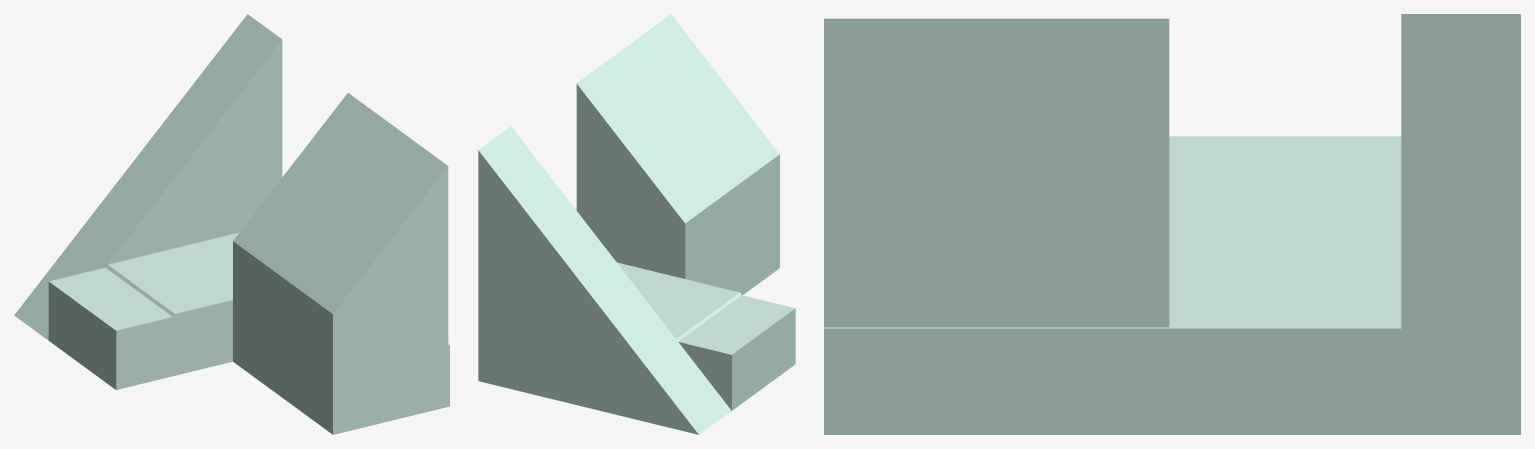
3 views of the same model, side by side, from view 1: azimuth 30°, elevation 25°; view 2: azimuth 150°, elevation 25°; view 3: azimuth 270°, elevation 25° (orthographic). The views are drawn at different scales.
Visible parts, largest first — view 1: Renderer Node; view 2: Renderer Node; view 3: Renderer Node.
Part boxes in pixels (left/top/right/bottom): Renderer Node: left=14, top=14, right=449, bottom=434; Renderer Node: left=478, top=14, right=795, bottom=434; Renderer Node: left=824, top=14, right=1520, bottom=434.
Size of the model in its own units: 0.5469 by 0.5469 by 0.8203.
